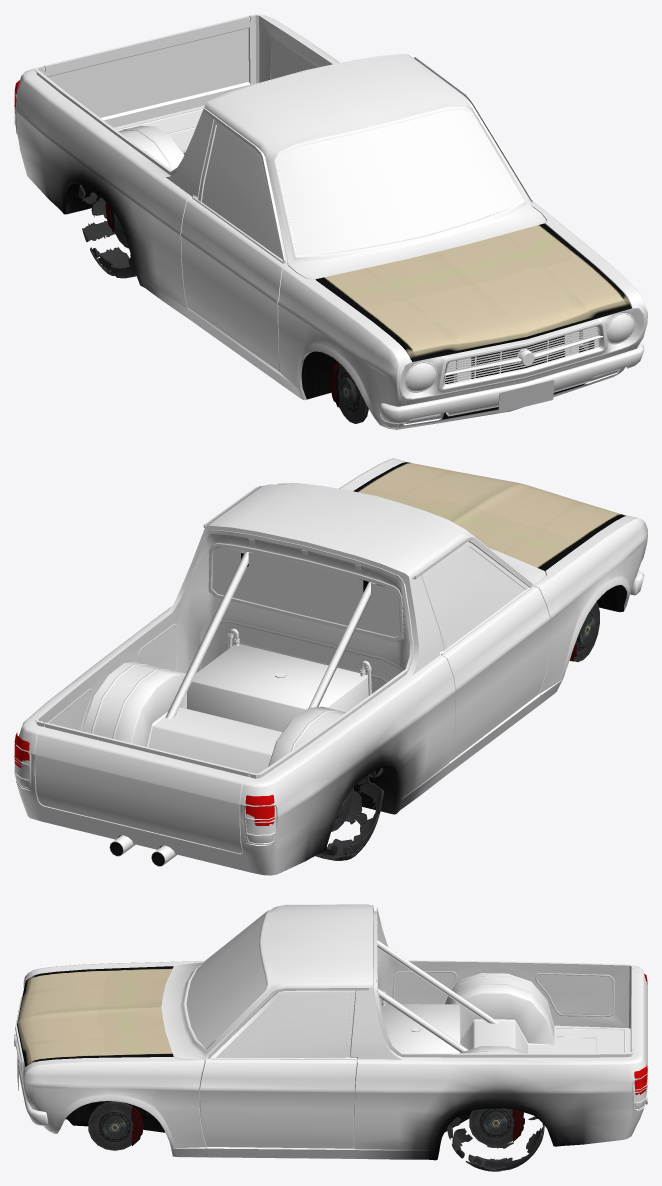
Rendered from 60_FUKDAT.fbx.
3 renders of one model, top to bottom at view 1: azimuth 30°, elevation 25°; view 2: azimuth 150°, elevation 25°; view 3: azimuth 270°, elevation 25°, orthographic. The views are drawn at different scales.
Parts seen in each view (by area): view 1: Body_Duco, Body_Glass, Body_Kit, Body_Gloss, Body_Matte, Undercarrage, Numberplate, Rotor; view 2: Body_Duco, Body_Gloss, Body_Glass, Body_Kit, Undercarrage, BrakeLights, Rotor; view 3: Body_Duco, Body_Kit, Body_Glass, Body_Gloss, Rotor (×2), Undercarrage.
Boxes of the visible parts, box(x1,y1,x2,y2) form: Body_Duco: box(14, 14, 647, 429); Body_Glass: box(202, 109, 634, 391); Body_Kit: box(315, 223, 631, 361); Body_Gloss: box(14, 56, 646, 423); Body_Matte: box(442, 324, 604, 388); Undercarrage: box(65, 183, 594, 429); Numberplate: box(498, 380, 554, 412); Rotor: box(338, 363, 368, 423); Body_Duco: box(14, 458, 647, 875); Body_Gloss: box(14, 485, 644, 866); Body_Glass: box(212, 546, 524, 647); Body_Kit: box(353, 462, 626, 571); Undercarrage: box(110, 553, 626, 865); BrakeLights: box(14, 732, 274, 825); Rotor: box(574, 602, 599, 662); Body_Duco: box(23, 905, 647, 1160); Body_Kit: box(17, 966, 173, 1067); Body_Glass: box(22, 912, 350, 1082); Body_Gloss: box(14, 904, 647, 1125); Rotor (×2): box(88, 1101, 514, 1150); Undercarrage: box(65, 1041, 551, 1141).
Bounding box in the file's own units: 1.56 × 1.25 × 3.83.
